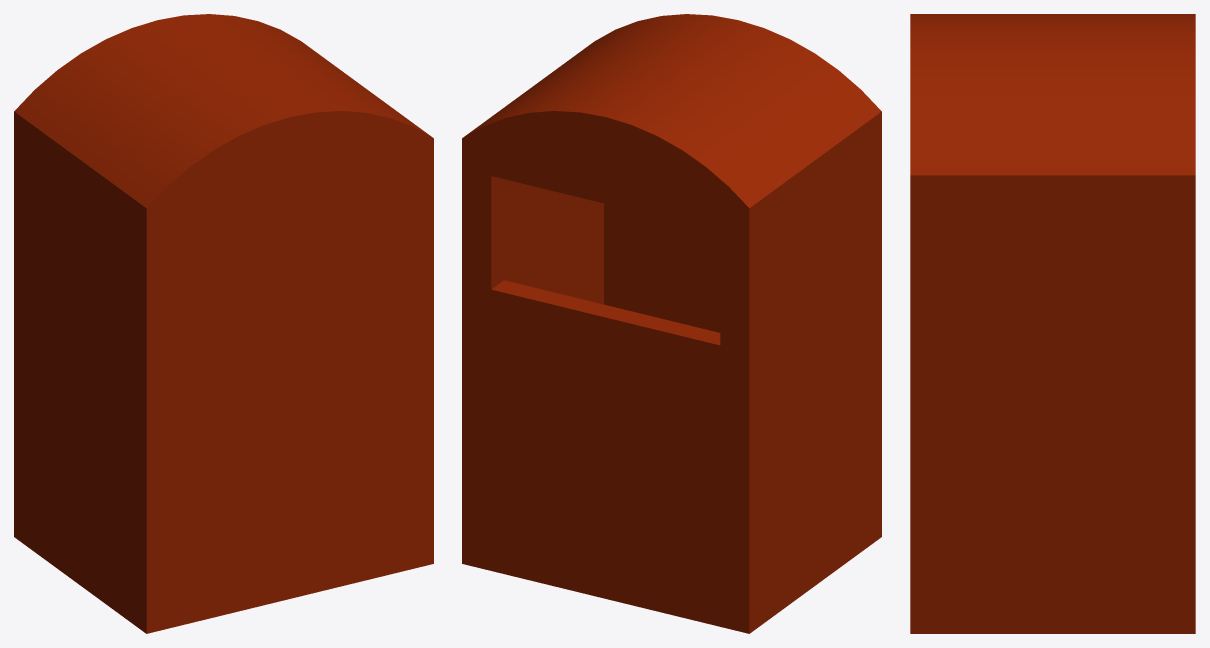
Rendered from Trash Can.fbx.
3 views of the same model, side by side, from view 1: azimuth 30°, elevation 25°; view 2: azimuth 150°, elevation 25°; view 3: azimuth 270°, elevation 25° (orthographic). The views are drawn at different scales.
Parts seen in each view (by area): view 1: Group1; view 2: Group1; view 3: Group1.
Boxes of the visible parts, <box> form: Group1: <box>14,14,433,633</box>; Group1: <box>462,14,881,633</box>; Group1: <box>910,14,1195,633</box>.
Size of the model in its own units: 258 by 413 by 206.
